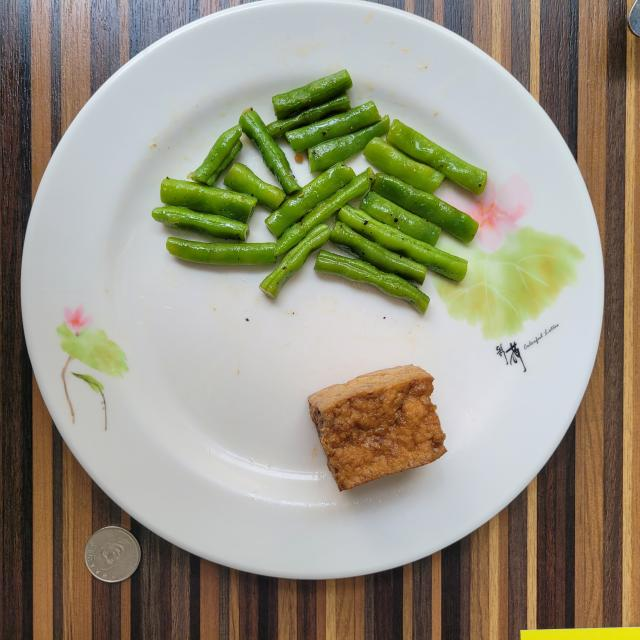coin: (85, 526, 141, 582), (199, 0, 219, 18)
egg tofu: (308, 365, 446, 491)
